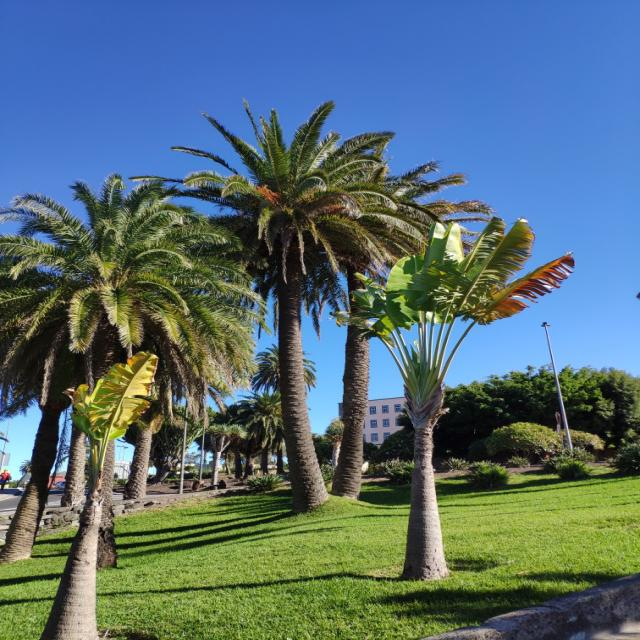Palm-Trees: (3, 190, 223, 562), (196, 101, 380, 511)
